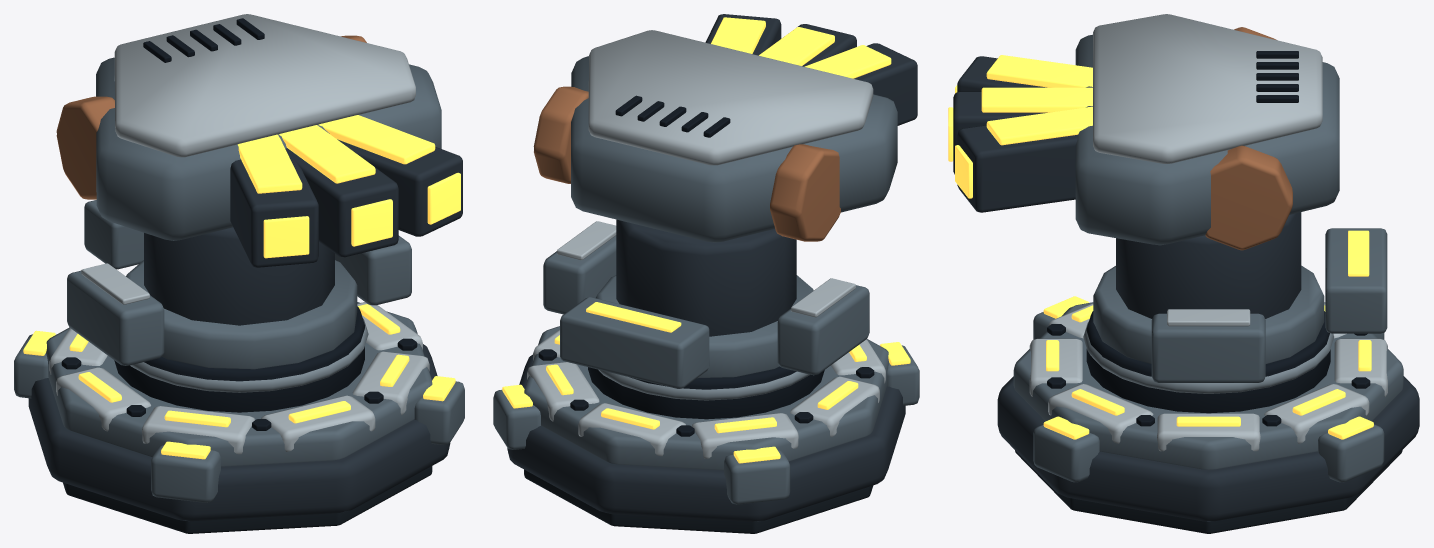
Rendered from shard_fan.fbx.
3 renders of one model, left to right at view 1: azimuth 30°, elevation 25°; view 2: azimuth 150°, elevation 25°; view 3: azimuth 270°, elevation 25°, orthographic. The views are drawn at different scales.
Parts seen in each view (by area): view 1: Recoil_Geometry, Base_Geometry, Yaw_Geometry, Tier3_Cooling_Geometry, Apex_sector_0_Geometry, Tier2_Capacitor_Geometry, Apex_sector_3_Geometry, Apex_sector_1_Geometry, Tier2_Light_01_Geometry, Tier3_Light_02_Geometry, Tier3_Light_06_Geometry; view 2: Recoil_Geometry, Base_Geometry, Yaw_Geometry, Tier3_Cooling_Geometry, Tier2_Capacitor_Geometry, Apex_sector_1_Geometry, Apex_sector_2_Geometry, Apex_sector_0_Geometry, Tier3_Light_03_Geometry, Tier3_Light_02_Geometry; view 3: Recoil_Geometry, Base_Geometry, Yaw_Geometry, Tier3_Cooling_Geometry, Tier2_Capacitor_Geometry, Apex_sector_2_Geometry, Apex_sector_3_Geometry, Apex_sector_0_Geometry, Tier3_Light_06_Geometry, Tier3_Light_05_Geometry, Tier2_Light_07_Geometry.
Part boxes in pixels (x1,y1,x2,y2): Recoil_Geometry: [56, 14, 462, 267]; Base_Geometry: [28, 302, 450, 533]; Yaw_Geometry: [126, 227, 357, 369]; Tier3_Cooling_Geometry: [67, 235, 411, 365]; Apex_sector_0_Geometry: [151, 441, 220, 502]; Tier2_Capacitor_Geometry: [84, 200, 143, 269]; Apex_sector_3_Geometry: [414, 376, 464, 444]; Apex_sector_1_Geometry: [14, 330, 55, 398]; Tier2_Light_01_Geometry: [164, 410, 230, 427]; Tier3_Light_02_Geometry: [78, 372, 121, 402]; Tier3_Light_06_Geometry: [358, 304, 400, 334]; Recoil_Geometry: [533, 14, 917, 242]; Base_Geometry: [507, 326, 905, 533]; Yaw_Geometry: [596, 219, 813, 378]; Tier3_Cooling_Geometry: [543, 221, 869, 375]; Tier2_Capacitor_Geometry: [560, 297, 709, 388]; Apex_sector_1_Geometry: [724, 446, 790, 504]; Apex_sector_2_Geometry: [493, 384, 540, 449]; Apex_sector_0_Geometry: [880, 342, 919, 405]; Tier3_Light_03_Geometry: [714, 417, 776, 433]; Tier3_Light_02_Geometry: [817, 381, 858, 409]; Recoil_Geometry: [948, 14, 1339, 250]; Base_Geometry: [997, 302, 1419, 533]; Yaw_Geometry: [1093, 212, 1324, 363]; Tier3_Cooling_Geometry: [1151, 309, 1265, 382]; Tier2_Capacitor_Geometry: [1325, 228, 1387, 333]; Apex_sector_2_Geometry: [1317, 416, 1384, 482]; Apex_sector_3_Geometry: [1033, 416, 1099, 482]; Apex_sector_0_Geometry: [1033, 296, 1088, 339]; Tier3_Light_06_Geometry: [1176, 416, 1240, 426]; Tier3_Light_05_Geometry: [1292, 389, 1345, 415]; Tier2_Light_07_Geometry: [1071, 389, 1124, 415].
Bounding box in the file's own units: 1.78 × 1.76 × 1.98.
